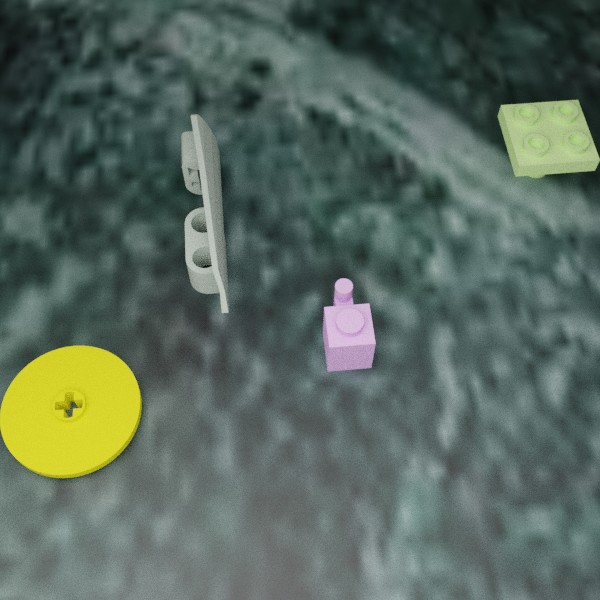lego: (0, 345, 141, 478), (181, 114, 229, 313), (497, 99, 600, 178), (322, 278, 375, 371)
